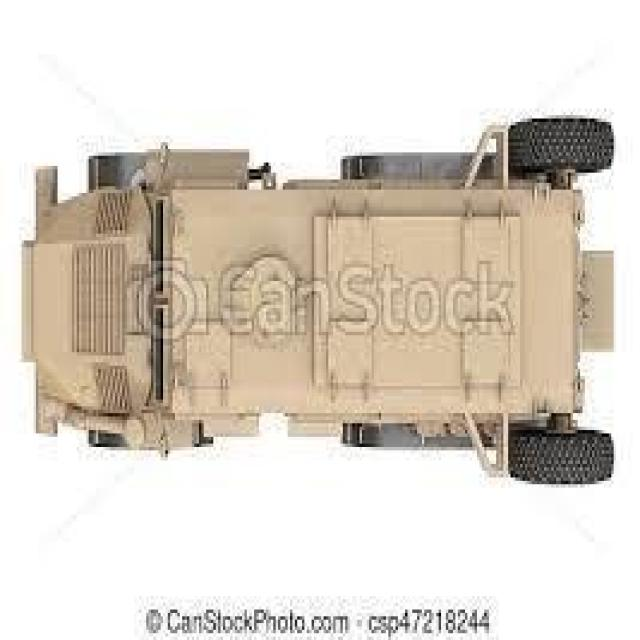Tanks: (19, 137, 621, 483)
